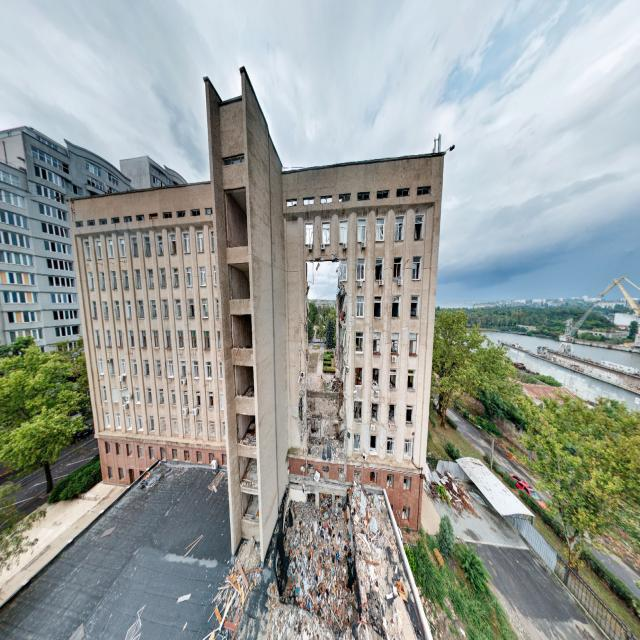building: (65, 180, 227, 488)
roof: (0, 456, 236, 638)
